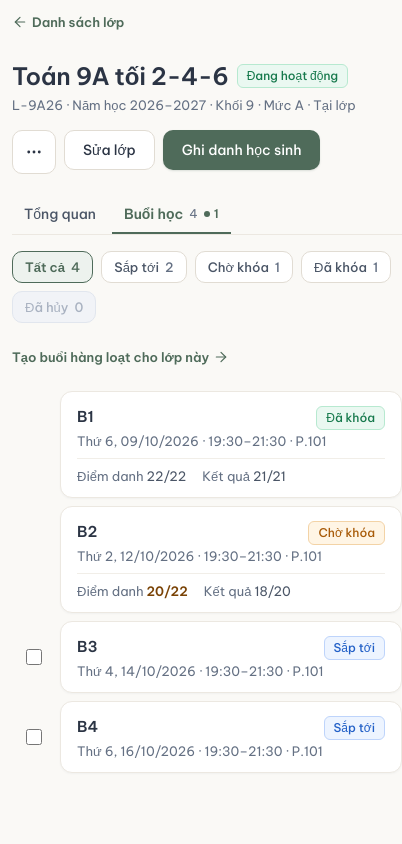
Test case: ClassDetailPage sessions tab, bulk and mobile › lets mobile rows select the same sessions as the table
Click the checkbox named "Chọn buổi B3 " at (34,657), box [26,649,42,665]
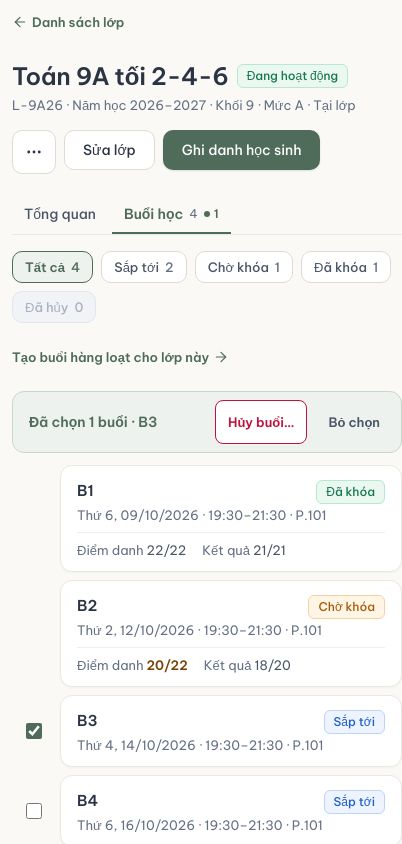
expect the element "Đã chọn 1 buổi · B3" is shown: met, box [12,391,401,453]
